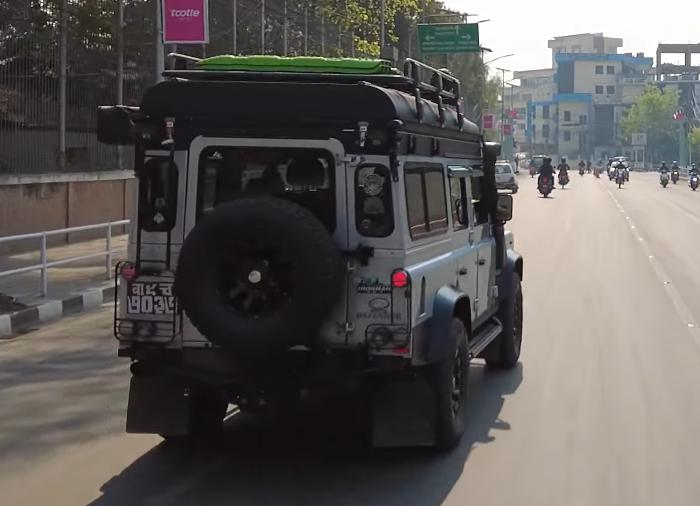SUV: (97, 52, 535, 462)
